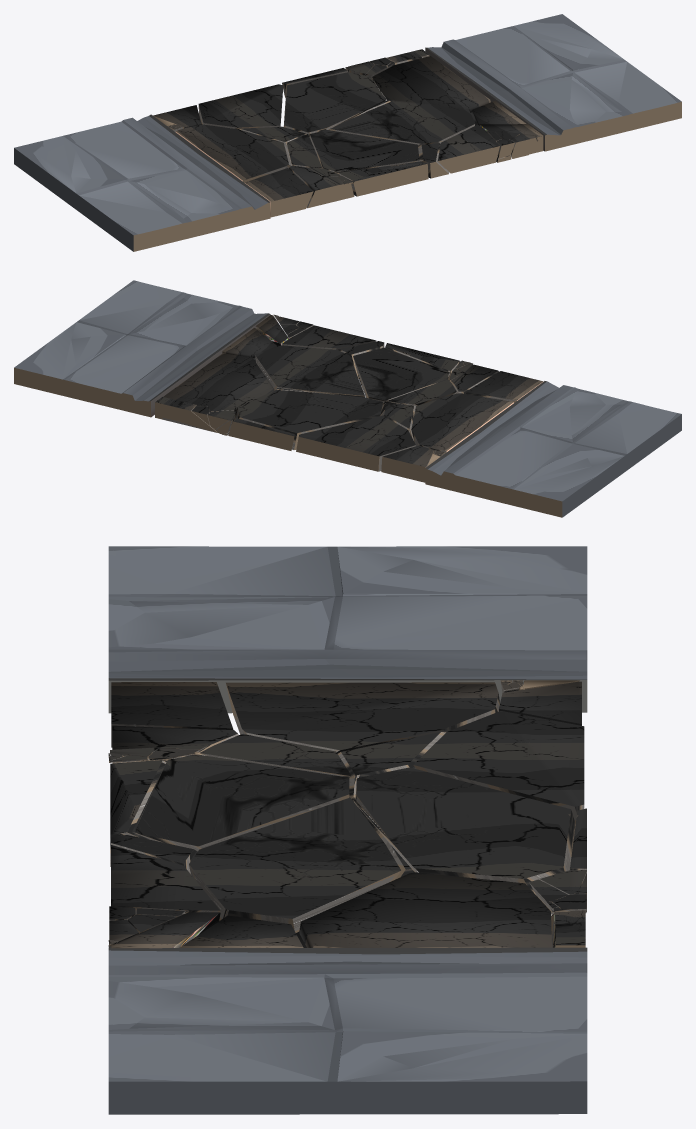
File: Road_Collapsing_TurnedNormals.fbx
The picture shows the model from 3 angles, top to bottom: view 1: azimuth 30°, elevation 25°; view 2: azimuth 150°, elevation 25°; view 3: azimuth 270°, elevation 25°; orthographic projection. The views are drawn at different scales.
Visible parts, largest first — view 1: Road_2_Deformed.002, Road_2_Deformed.001, Road_Collapsing_cell.003, Road_Collapsing_cell.017, Road_Collapsing_cell.024, Road_Collapsing_cell.012, Road_Collapsing_cell.002, Road_Collapsing_cell.014, Road_Collapsing_cell.007, Road_Collapsing_cell.019, Road_Collapsing_cell.009, Road_Collapsing_cell.011 (+8 smaller); view 2: Road_2_Deformed.002, Road_2_Deformed.001, Road_Collapsing_cell.003, Road_Collapsing_cell.017, Road_Collapsing_cell.014, Road_Collapsing_cell.024, Road_Collapsing_cell.012, Road_Collapsing_cell.002, Road_Collapsing_cell.019, Road_Collapsing_cell.015, Road_Collapsing_cell.007, Road_Collapsing_cell.016 (+8 smaller); view 3: Road_2_Deformed.001, Road_2_Deformed.002, Road_Collapsing_cell.003, Road_Collapsing_cell.017, Road_Collapsing_cell.012, Road_Collapsing_cell.024, Road_Collapsing_cell.002, Road_Collapsing_cell.014, Road_Collapsing_cell.019, Road_Collapsing_cell.007, Road_Collapsing_cell.004, Road_Collapsing_cell.009 (+8 smaller).
Boxes of the visible parts, x1,y1,x2,y2 form: Road_2_Deformed.002: (14,114,270,251); Road_2_Deformed.001: (425,14,681,151); Road_Collapsing_cell.003: (283,72,385,135); Road_Collapsing_cell.017: (329,101,475,146); Road_Collapsing_cell.024: (372,56,490,112); Road_Collapsing_cell.012: (175,124,293,182); Road_Collapsing_cell.002: (309,130,419,172); Road_Collapsing_cell.014: (198,84,283,129); Road_Collapsing_cell.007: (438,124,499,173); Road_Collapsing_cell.019: (244,168,313,217); Road_Collapsing_cell.009: (337,161,428,196); Road_Collapsing_cell.011: (289,165,354,208); Road_2_Deformed.002: (425,381,681,517); Road_2_Deformed.001: (14,280,270,417); Road_Collapsing_cell.003: (234,390,382,449); Road_Collapsing_cell.017: (255,345,365,397); Road_Collapsing_cell.014: (296,415,415,471); Road_Collapsing_cell.024: (163,353,274,411); Road_Collapsing_cell.012: (411,393,513,452); Road_Collapsing_cell.002: (353,347,449,405); Road_Collapsing_cell.019: (465,371,543,402); Road_Collapsing_cell.015: (381,445,434,482); Road_Collapsing_cell.007: (282,325,376,349); Road_Collapsing_cell.016: (228,418,294,450); Road_2_Deformed.001: (108,947,587,1114); Road_2_Deformed.002: (108,546,587,713); Road_Collapsing_cell.003: (355,767,575,895); Road_Collapsing_cell.017: (189,797,401,932); Road_Collapsing_cell.012: (226,682,499,753); Road_Collapsing_cell.024: (299,872,551,947); Road_Collapsing_cell.002: (132,754,349,851); Road_Collapsing_cell.014: (413,711,584,823); Road_Collapsing_cell.019: (111,682,233,747); Road_Collapsing_cell.007: (111,845,220,912); Road_Collapsing_cell.004: (200,734,350,776); Road_Collapsing_cell.009: (110,760,166,866).
Size of the model in its own units: 1300 by 41.41 by 491.
7 materials, 7 textured.
